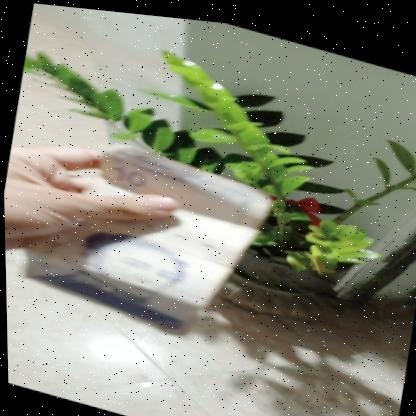ten-front-vef: (16, 122, 273, 351)
